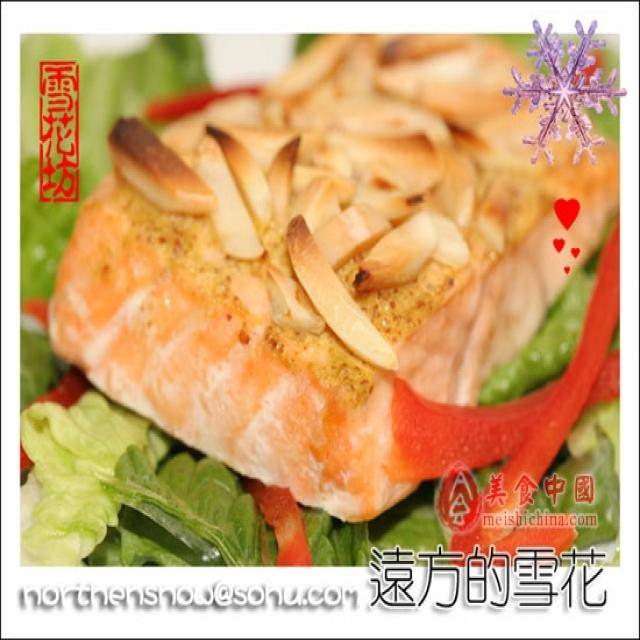熟制海鲜: (45, 31, 608, 544)
